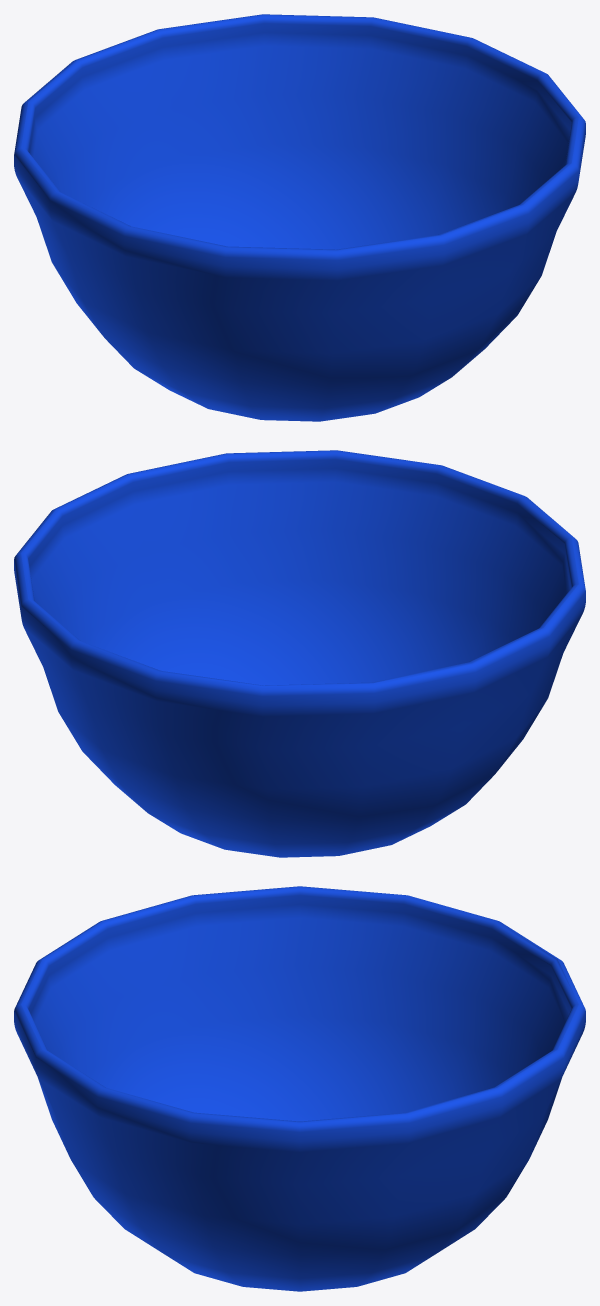
File: basin.fbx
3 renders of one model, top to bottom at view 1: azimuth 30°, elevation 25°; view 2: azimuth 150°, elevation 25°; view 3: azimuth 270°, elevation 25°, orthographic.
Visible parts, largest first — view 1: Basin; view 2: Basin; view 3: Basin.
Part boxes in pixels (x1,y1,x2,y2): Basin: [14, 14, 585, 421]; Basin: [14, 450, 585, 857]; Basin: [14, 886, 585, 1291].
Size of the model in its own units: 53.81 by 23.26 by 53.81.
